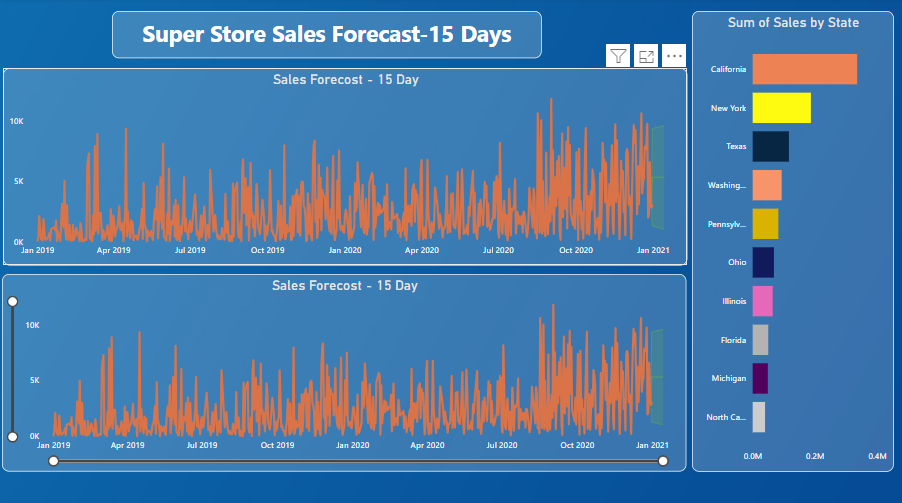

Layout of this report page (visuals, bound fields, positions):
{"tool":"powerbi","page":{"name":"Page 2","canvas":[1280,720],"ordinal":1},"visuals":[{"type":"lineChart","title":"Sales Forecost - 15 Day","fields":{"Y":["Sum(SuperStore_Sales_Dataset.Sales)"],"Category":["SuperStore_Sales_Dataset.Order Date"]},"box":[5.7,98.6,970,280],"z":0},{"type":"lineChart","title":"Sales Forecost - 15 Day","fields":{"Y":["Sum(SuperStore_Sales_Dataset.Sales)"],"Category":["SuperStore_Sales_Dataset.Order Date"]},"box":[4.3,391.4,970,280],"z":1000},{"type":"barChart","fields":{"Category":["SuperStore_Sales_Dataset.State"],"Y":["Sum(SuperStore_Sales_Dataset.Sales)"]},"box":[982.9,18.6,285.7,652.9],"z":2000},{"type":"textbox","box":[160,18.6,608.6,67.1],"z":3000}]}

Visuals, with their boxes in screenshot pixels (x1, y1, x2, y2), scaled from the page's 1280x720 canvas onto the 902x503 screenshot:
"Sales Forecost - 15 Day" lineChart: pyautogui.locateOnScreen(4, 69, 688, 264)
"Sales Forecost - 15 Day" lineChart: pyautogui.locateOnScreen(3, 273, 687, 469)
barChart - SuperStore_Sales_Dataset.State x Sum(SuperStore_Sales_Dataset.Sales): pyautogui.locateOnScreen(693, 13, 894, 469)
textbox: pyautogui.locateOnScreen(113, 13, 542, 60)
